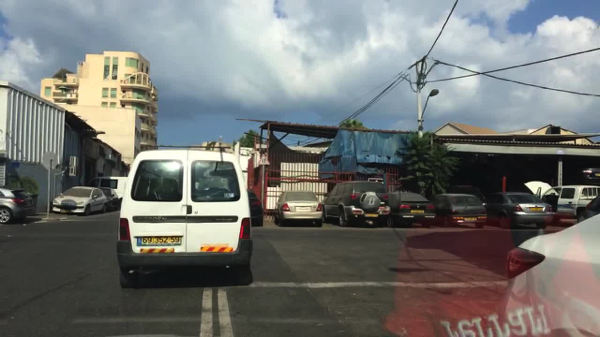car: (115, 150, 253, 280), (503, 210, 600, 336), (321, 178, 390, 228), (523, 179, 599, 220), (487, 190, 552, 229), (272, 189, 323, 228), (431, 194, 486, 228), (388, 191, 435, 229), (50, 186, 109, 216), (0, 187, 36, 225), (88, 175, 129, 201), (453, 184, 484, 207), (245, 190, 263, 228), (577, 193, 600, 221)
traffic sign: (257, 153, 271, 166)
